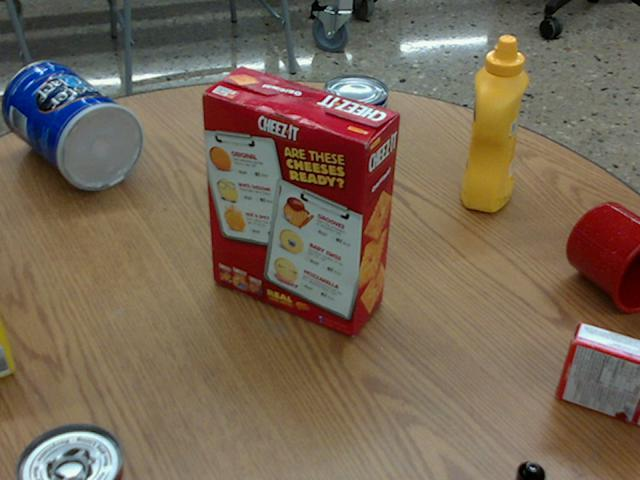cracker_box: (205, 67, 401, 334)
gelatin_box: (558, 324, 639, 426)
large_marker: (522, 465, 550, 479)
master_chef_can: (6, 61, 146, 190)
mug: (567, 201, 639, 312)
mustard_bottle: (462, 35, 530, 210)
potted_meat_can: (229, 88, 316, 195)
sugar_box: (0, 302, 18, 376)
tomato_soup_can: (20, 423, 129, 479)
tuna_fish_can: (325, 72, 390, 126)
